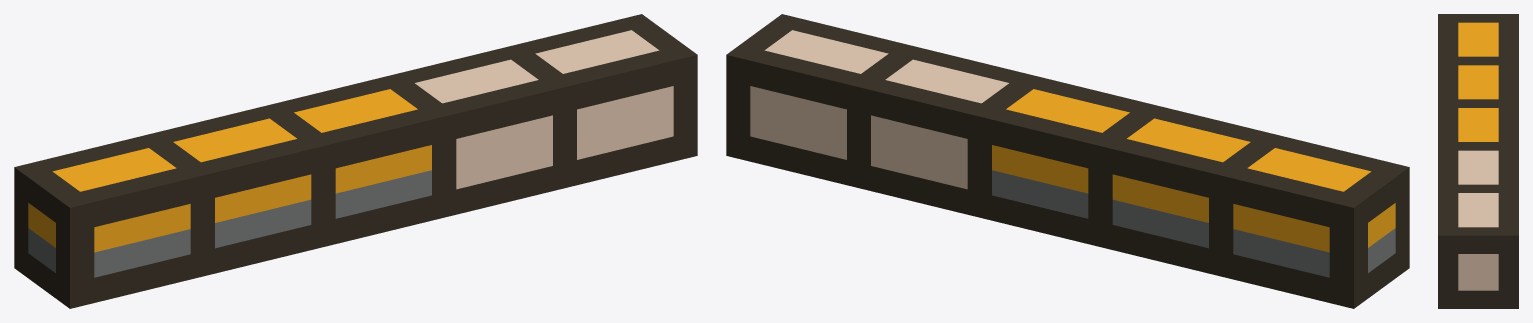
File: meter_3.gltf
3 views of the same model, side by side, from view 1: azimuth 30°, elevation 25°; view 2: azimuth 150°, elevation 25°; view 3: azimuth 270°, elevation 25° (orthographic). The views are drawn at different scales.
Bounding box in the file's own units: 2.6 × 0.4 × 0.4.
Materials: 1 (1 with a texture image).
